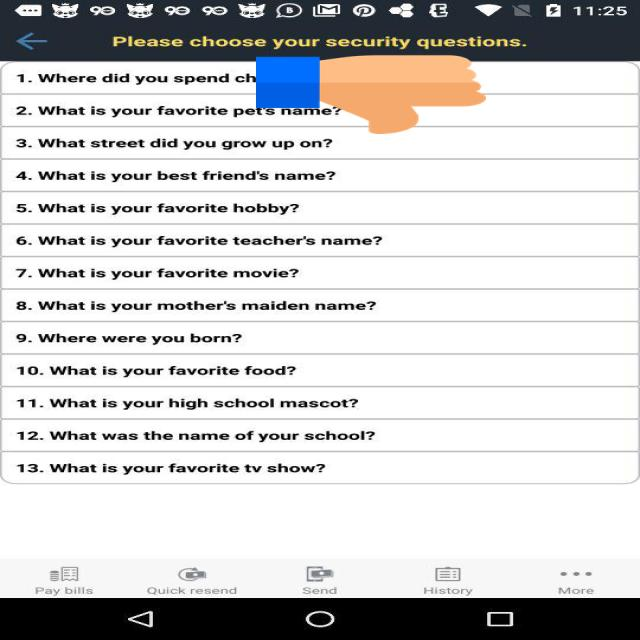obstruction: (256, 53, 486, 136)
